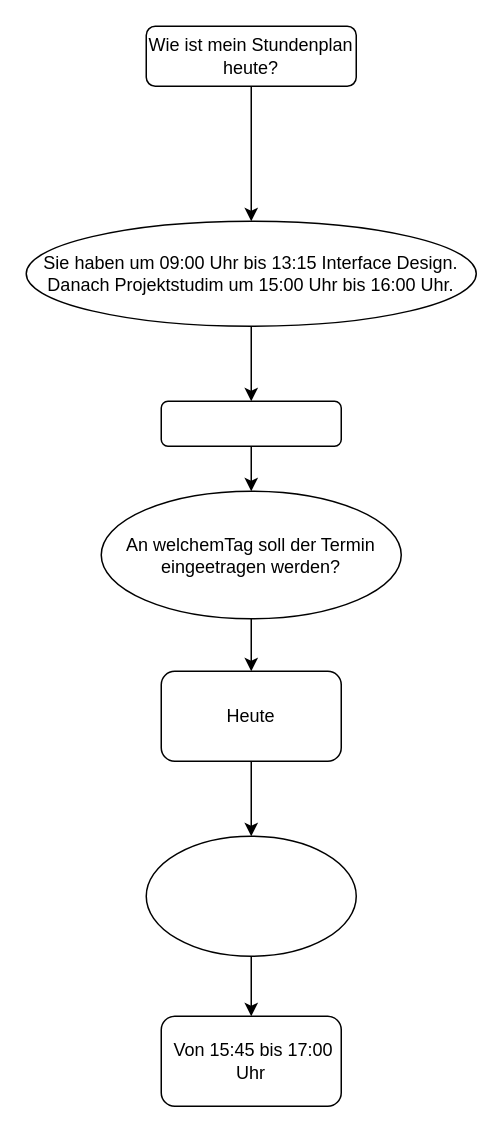
Image size: 503x1133. Some labels were removed from this diagram. The centre of each missing label's shape, as x and y in pixels:
Erstelle Termin: the point at 250,423
In welchem Zeitraum soll Ihr Termin stattfinden: the point at 250,895
